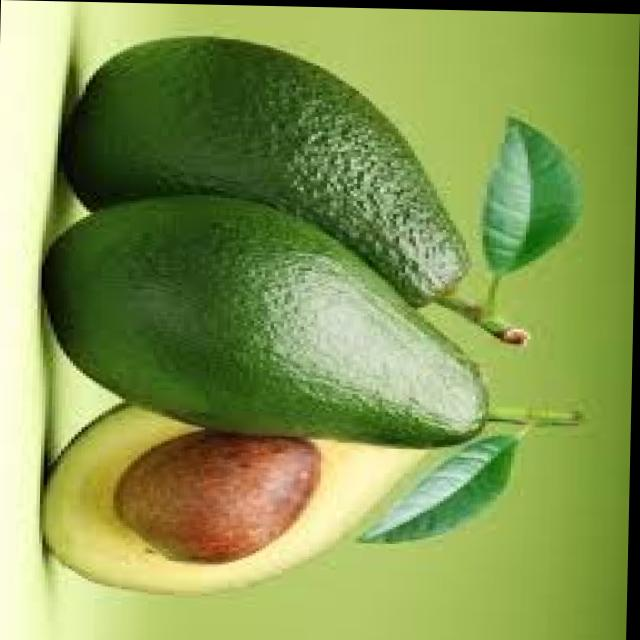Bo: (56, 30, 598, 621)
